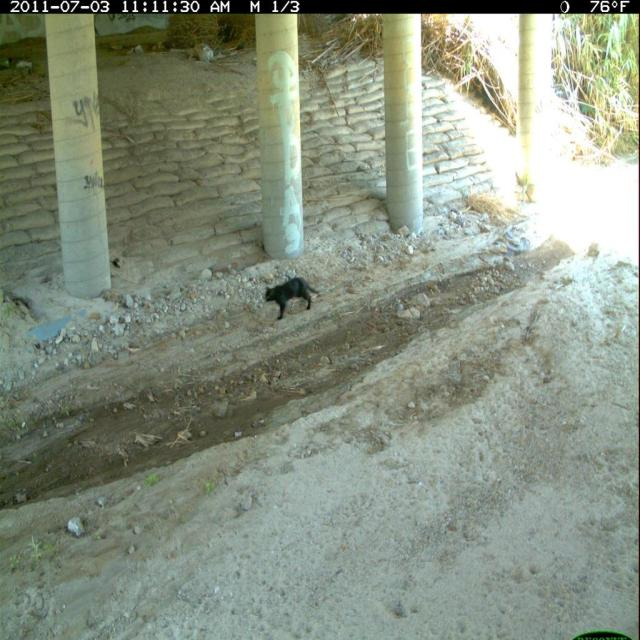cat: (263, 274, 325, 325)
